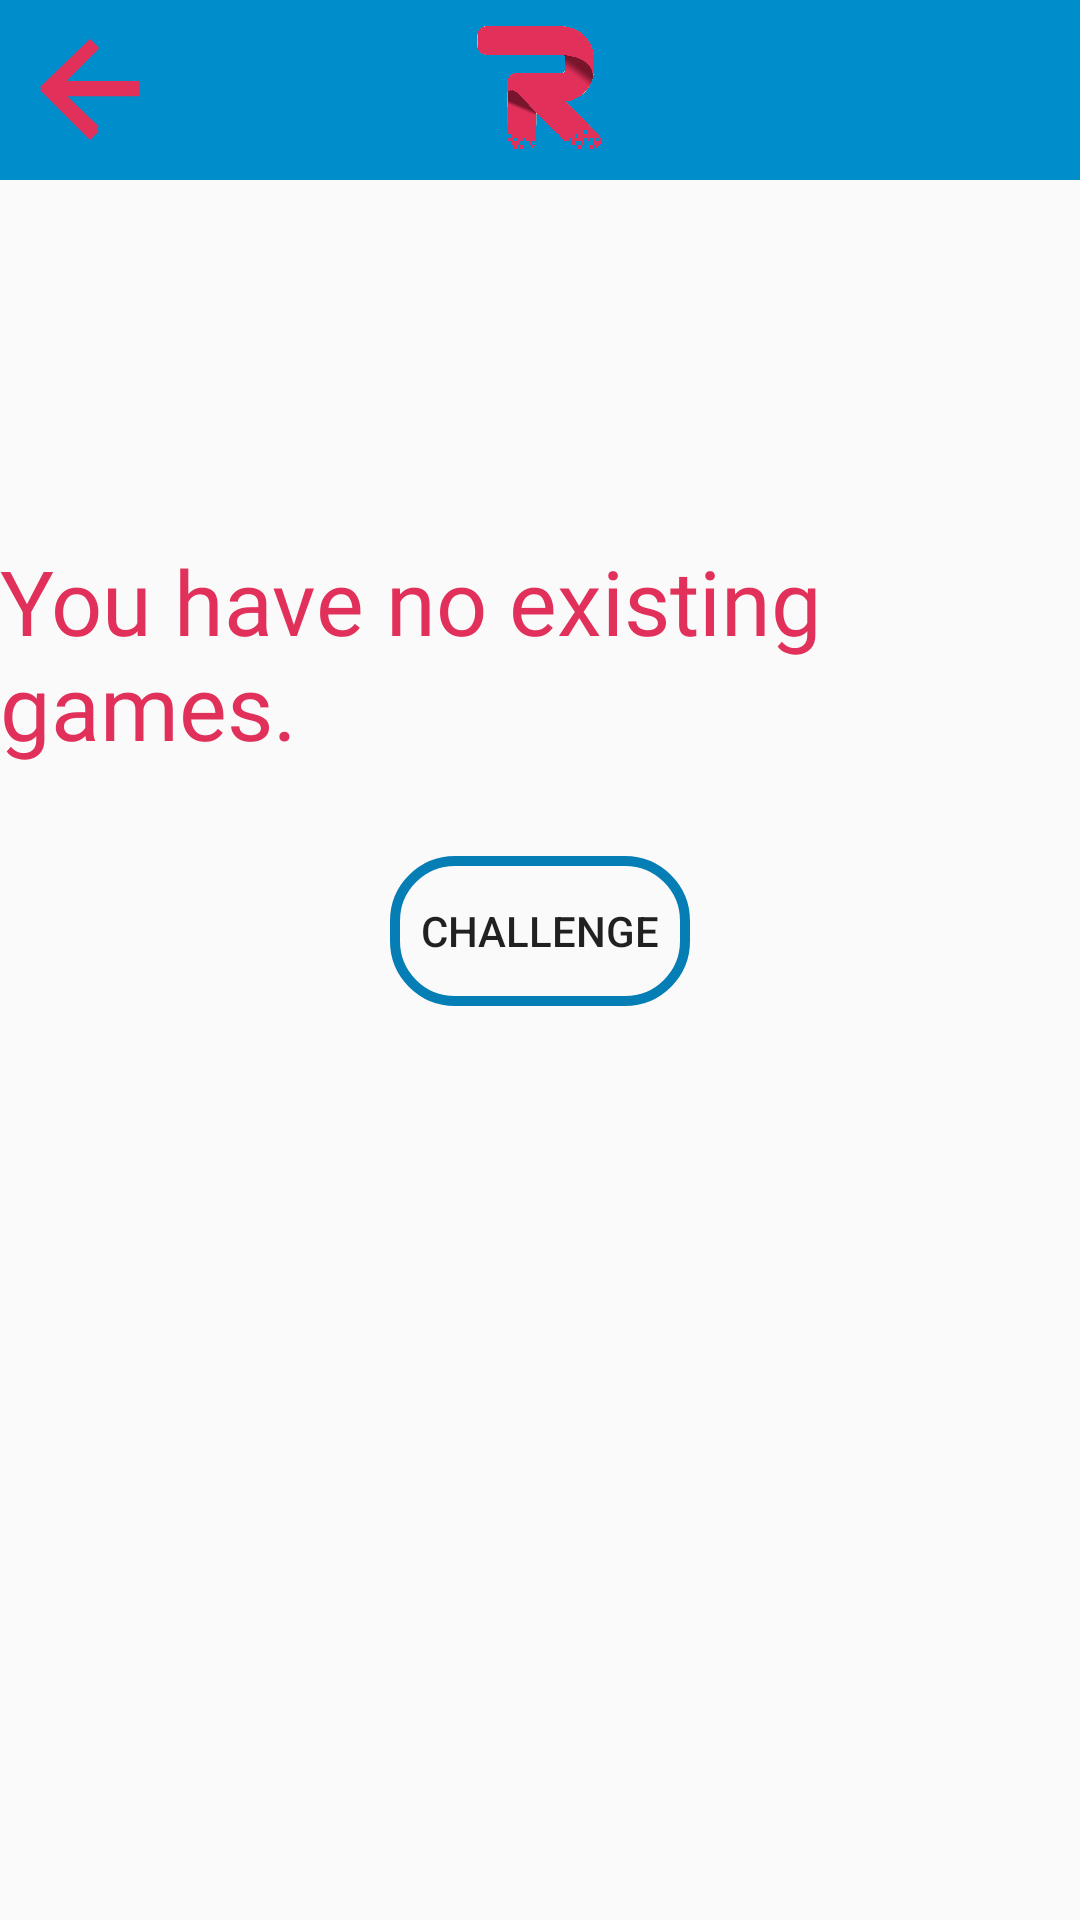

Point at icon controls on the screen. Image size 1080 x 1920, points as [x,y].
backbutton: [90,89]
